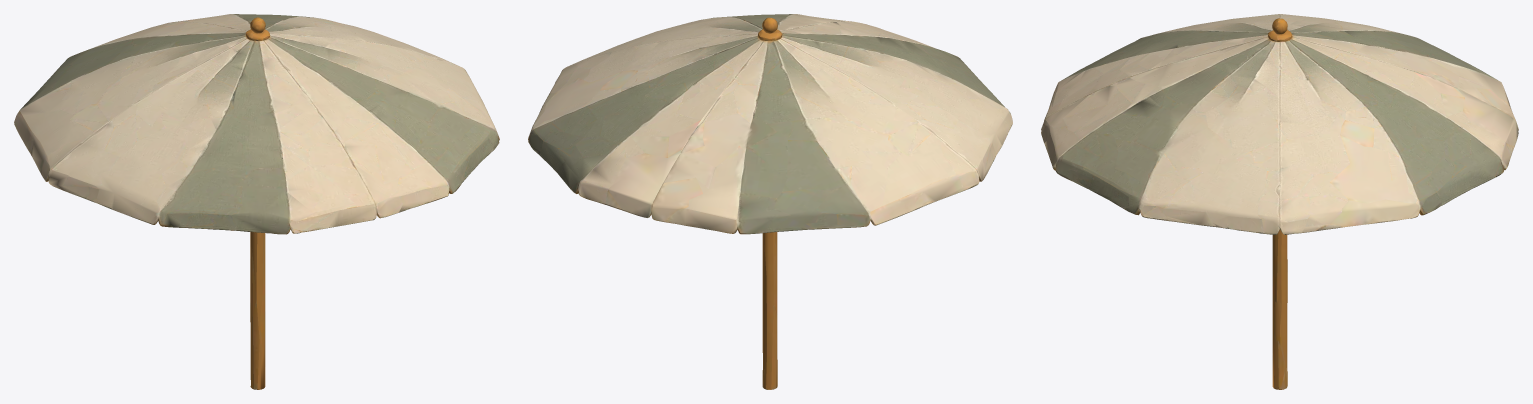
File: upm_mv3pqsw56uh.glb
3 views of the same model, side by side, from view 1: azimuth 30°, elevation 25°; view 2: azimuth 150°, elevation 25°; view 3: azimuth 270°, elevation 25° (orthographic).
Bounding box in the file's own units: 1.9 × 1.59 × 1.87.
Materials: 1 (1 with a texture image).
